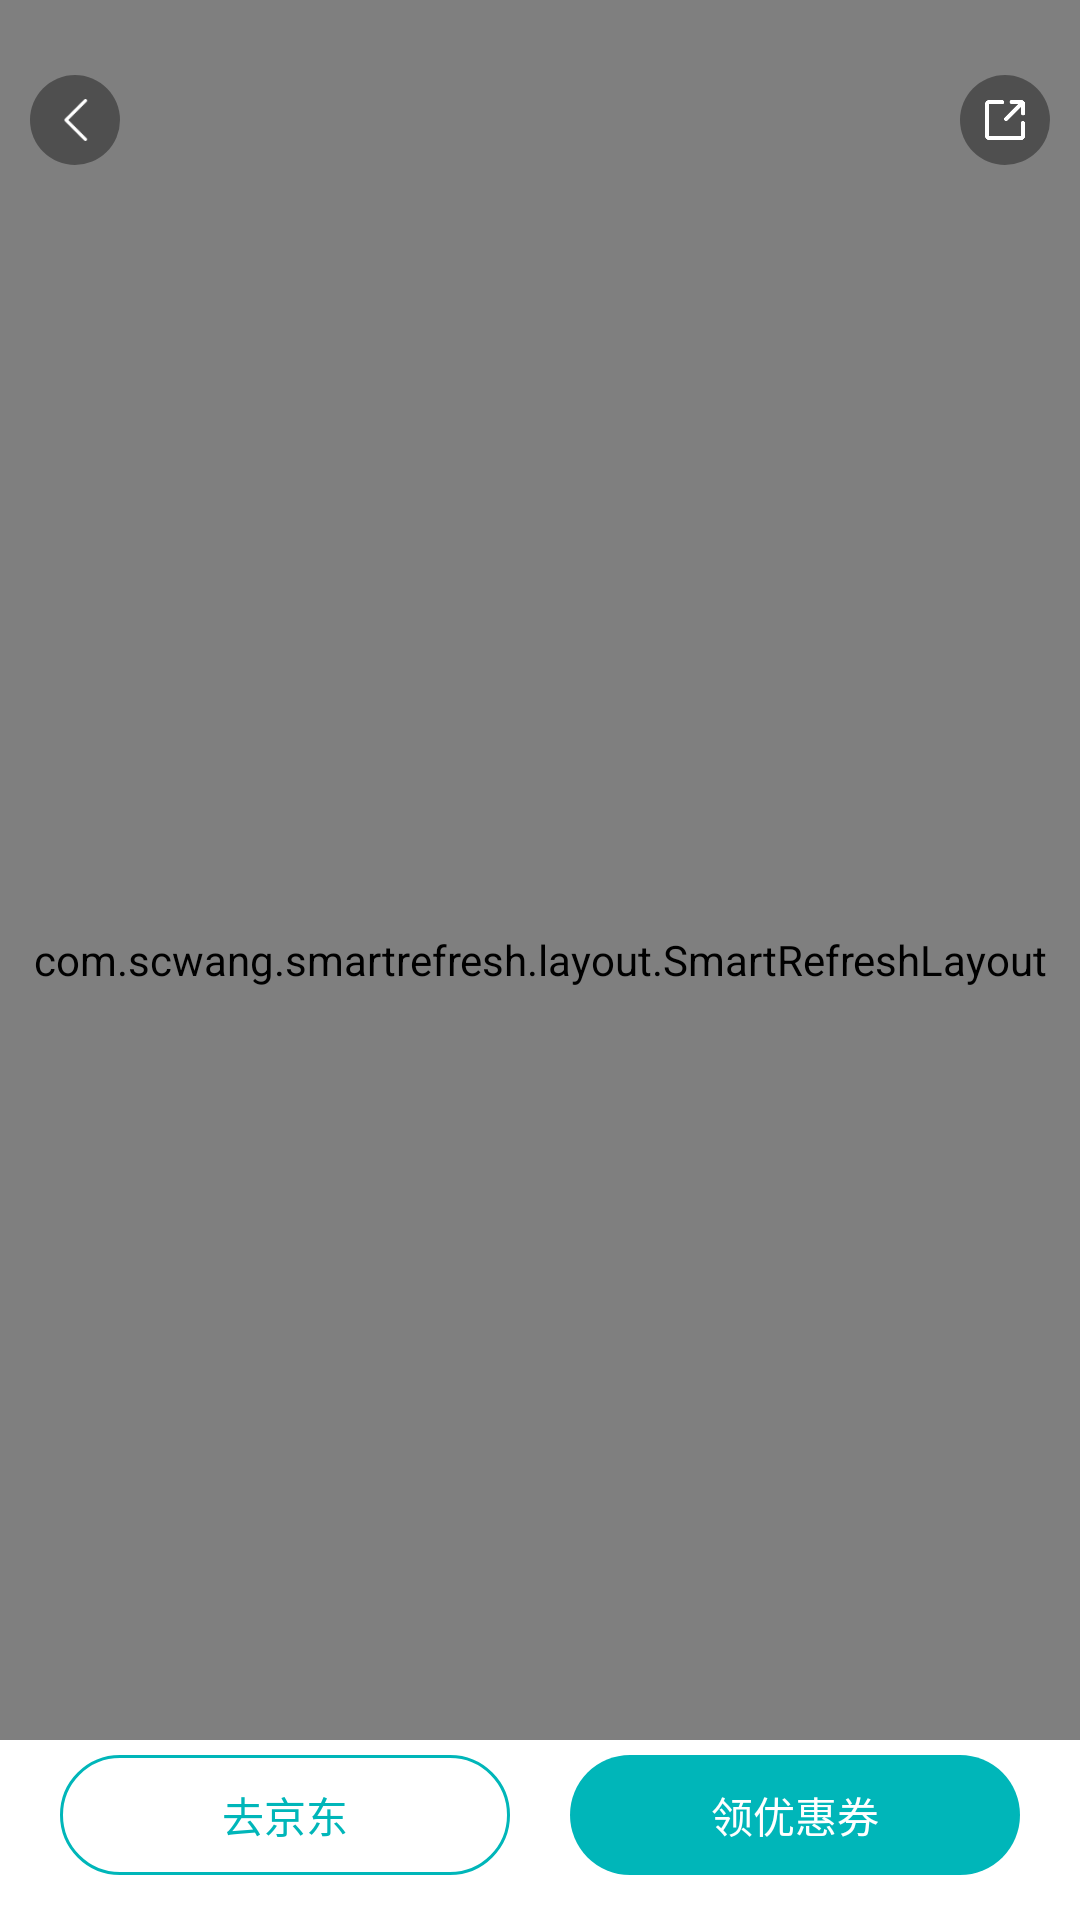

Locate icon controls on the screen. Image size 1080px×1920px, boxes as (x1=x1, y1=y1, x2=x2, y2=y2).
return: (x1=30, y1=75, x2=120, y2=165)
share: (x1=960, y1=75, x2=1050, y2=165)
